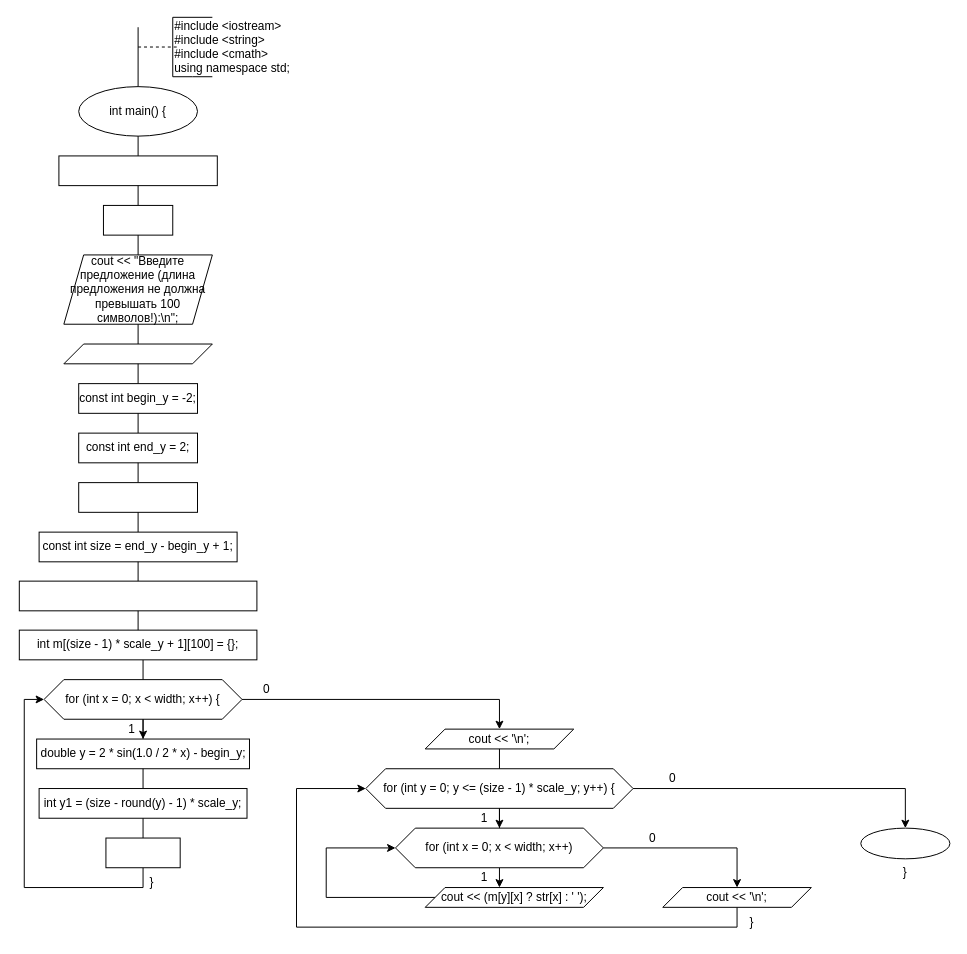
This 967x954 diagram has some shape labels left out. The shapes that lost their labels are listed below. From the top down, each one's centre as x and y in pixels, then its label:
point (137, 170): system("chcp 1251>NULL");
point (137, 219): string str;
point (137, 353): getline(cin, str);
point (138, 497): int width = str.length();
point (137, 595): const int scale_y = 1;// масшатб по оси Y
point (142, 852): m[y1][x] = 1;
point (905, 843): return 0;
